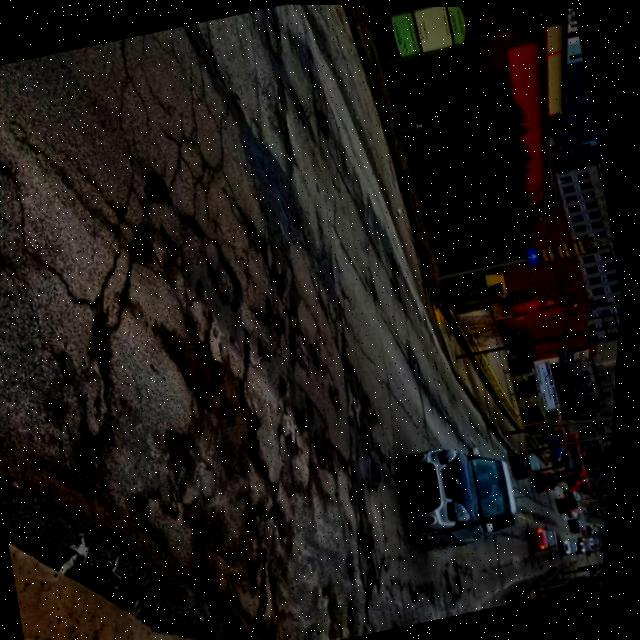Pothole: (134, 291, 311, 534), (115, 463, 232, 618), (268, 377, 359, 490), (127, 404, 224, 493), (332, 361, 402, 470), (34, 332, 98, 450), (261, 243, 322, 310), (346, 516, 387, 606), (432, 549, 476, 610), (312, 83, 349, 144)
